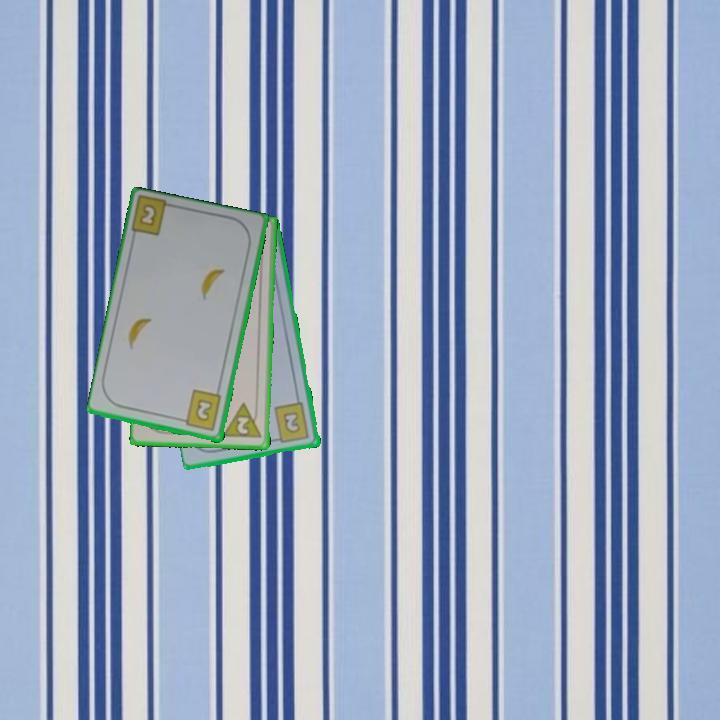2b: (177, 387, 224, 434), (270, 399, 312, 446), (138, 203, 158, 227)
2p: (221, 400, 265, 441)
